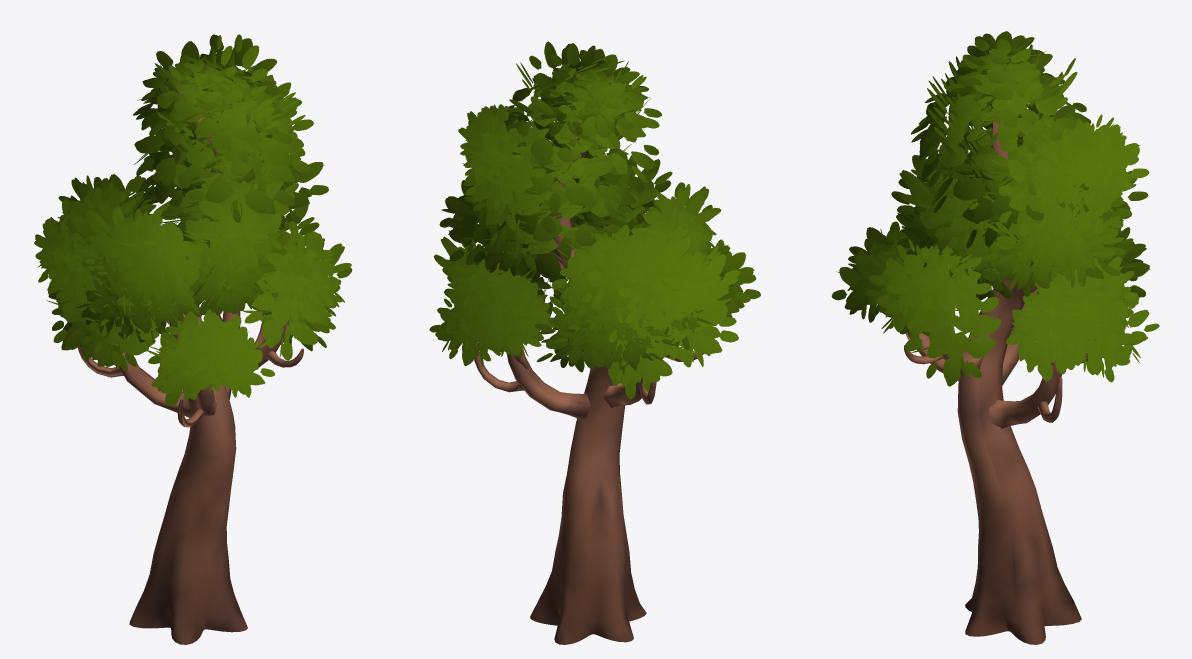
File: laubbaum_d.glb
3 views of the same model, side by side, from view 1: azimuth 30°, elevation 25°; view 2: azimuth 150°, elevation 25°; view 3: azimuth 270°, elevation 25° (orthographic). The views are drawn at different scales.
Parts seen in each view (by area): view 1: baum; view 2: baum; view 3: baum.
Part boxes in pixels (x1,y1,x2,y2): baum: [34, 34, 352, 644]; baum: [429, 41, 760, 644]; baum: [831, 31, 1159, 644].
Bounding box in the file's own units: 4.46 × 7.64 × 4.28.
Materials: 2 (1 with a texture image).
